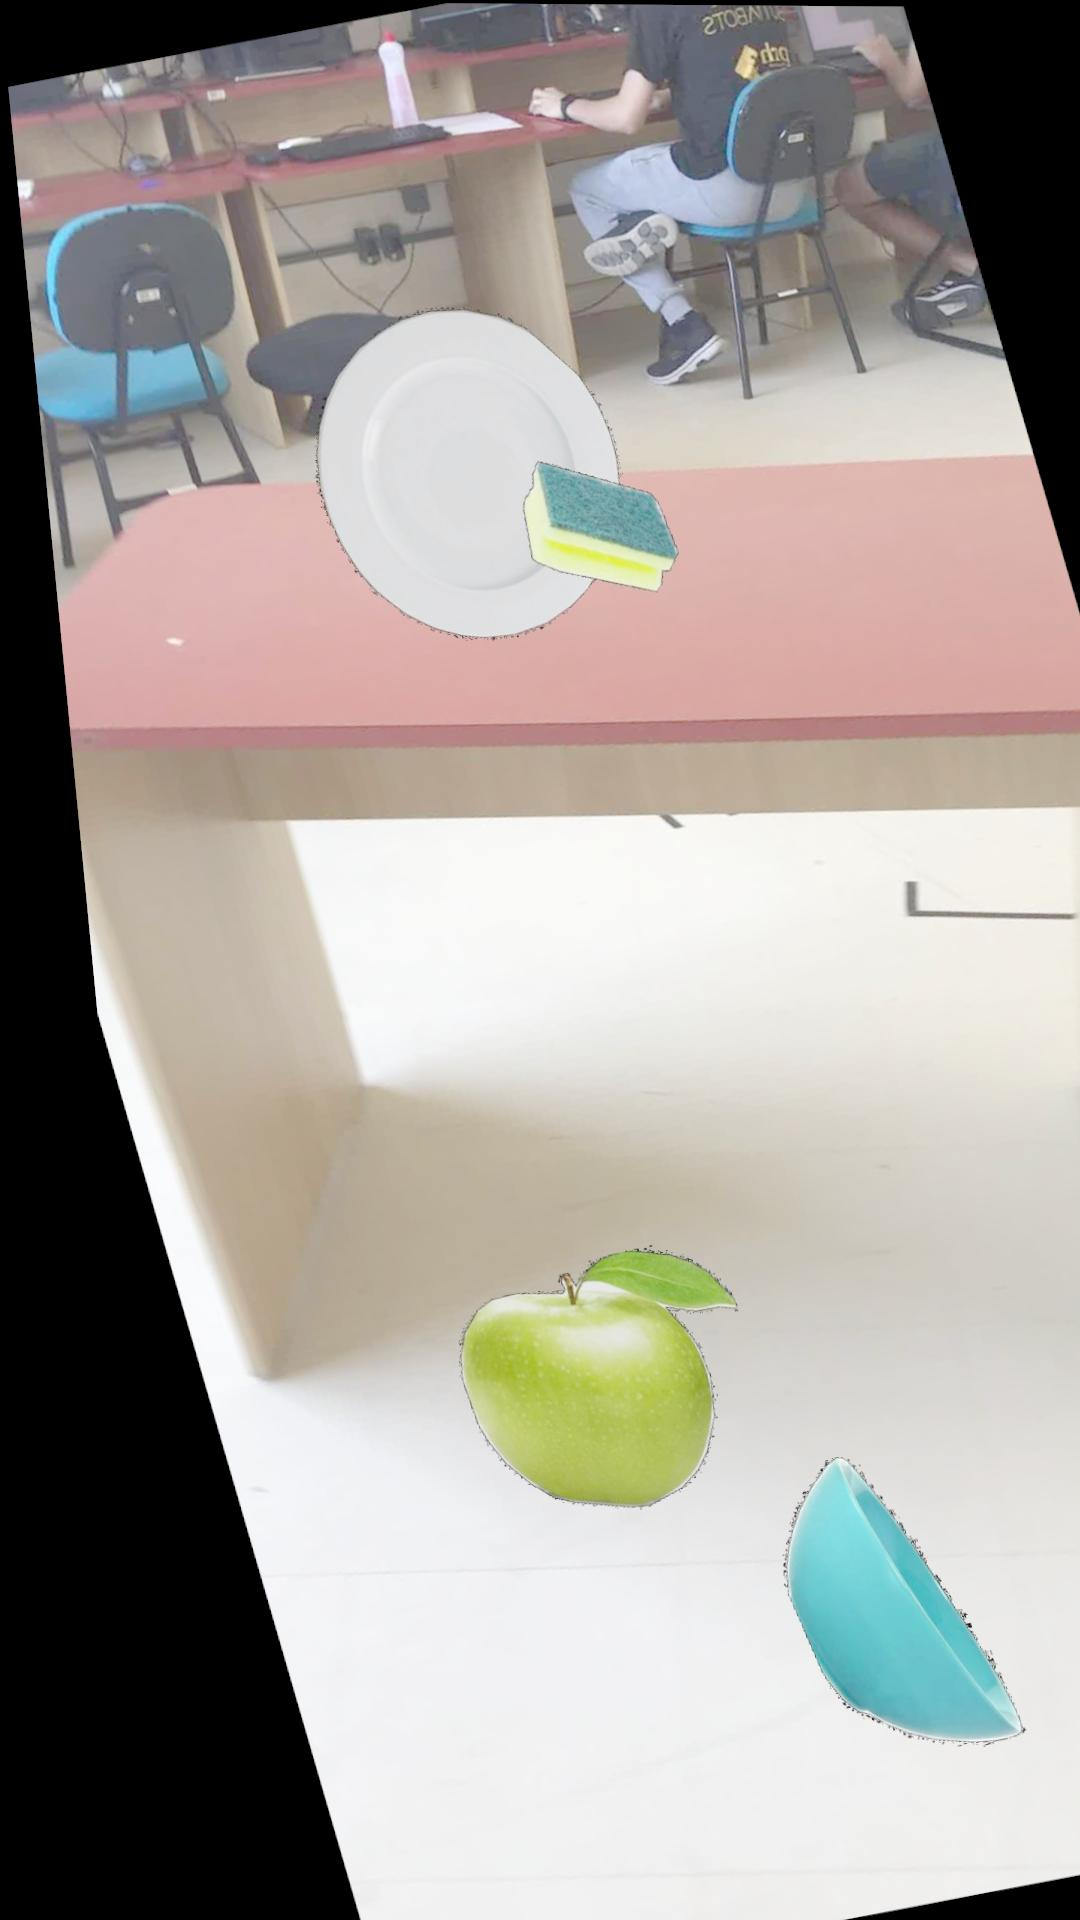bowl: (753, 1455, 992, 1739)
green apple: (433, 1246, 712, 1505)
plate: (307, 305, 612, 638)
sponge: (514, 459, 669, 589)
